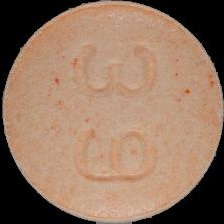52125-349: (0, 0, 224, 224)
